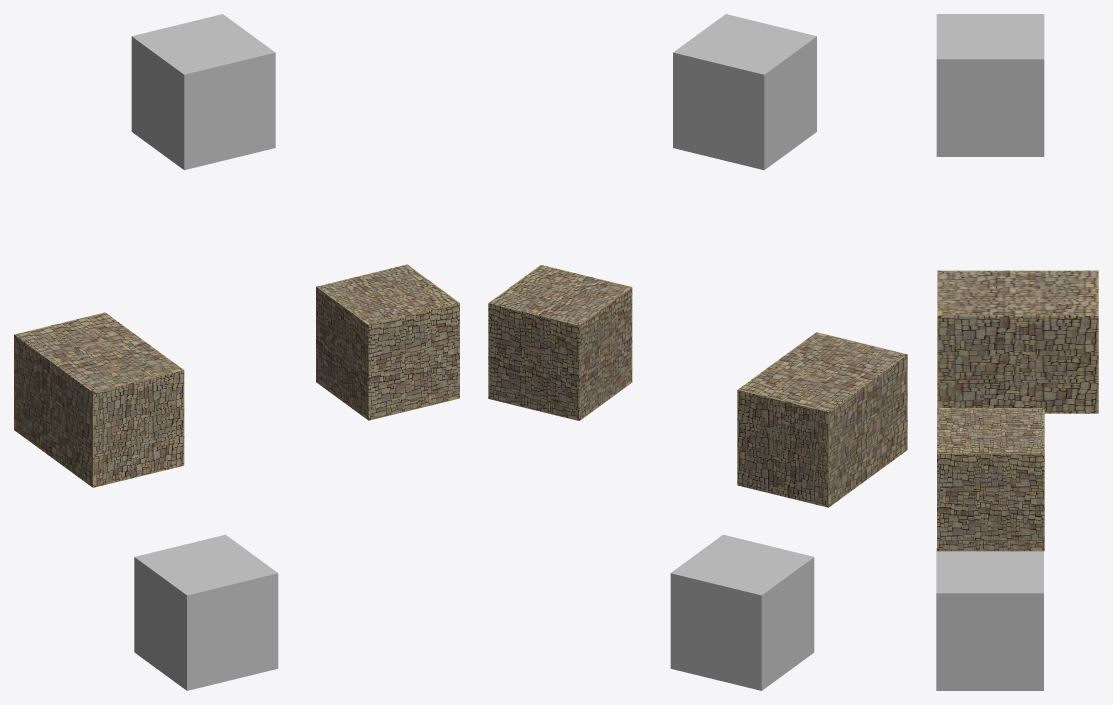
File: 4cubes.fbx
3 views of the same model, side by side, from view 1: azimuth 30°, elevation 25°; view 2: azimuth 150°, elevation 25°; view 3: azimuth 270°, elevation 25° (orthographic). The views are drawn at different scales.
Visible parts, largest first — view 1: Cube, Cube.002, Cube.003, Cube.001; view 2: Cube, Cube.001, Cube.003, Cube.002; view 3: Cube, Cube.002, Cube.001, Cube.003.
Boxes of the visible parts, x1,y1,x2,y2 form: Cube: (14, 312, 184, 487); Cube.002: (131, 14, 275, 170); Cube.003: (134, 534, 278, 690); Cube.001: (316, 264, 459, 420); Cube: (737, 332, 907, 507); Cube.001: (488, 265, 632, 420); Cube.003: (670, 534, 814, 690); Cube.002: (673, 14, 816, 170); Cube: (937, 270, 1098, 413); Cube.002: (936, 14, 1044, 156); Cube.001: (937, 408, 1044, 551); Cube.003: (936, 548, 1043, 690).
Bounding box in the file's own units: 804 × 1292 × 302.
